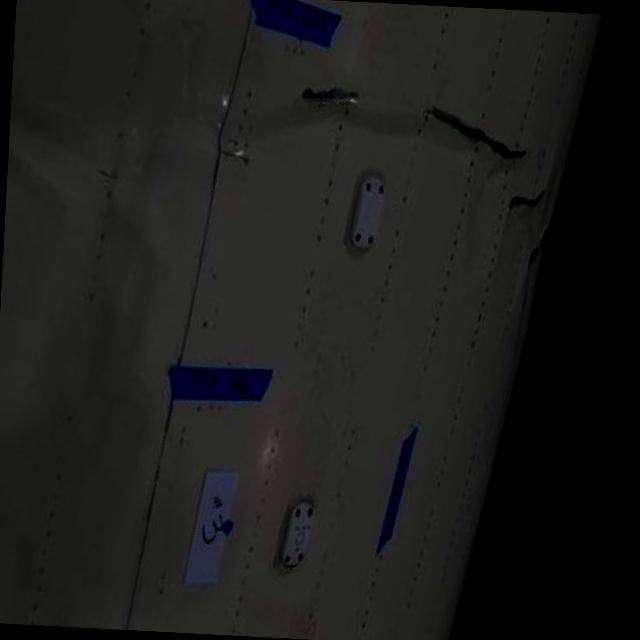crack: (421, 103, 536, 166), (294, 78, 366, 120), (507, 188, 548, 215)
